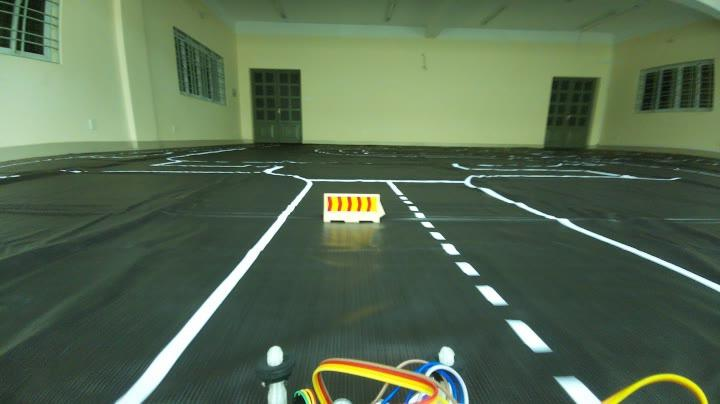roadblock: (318, 186, 392, 235)
